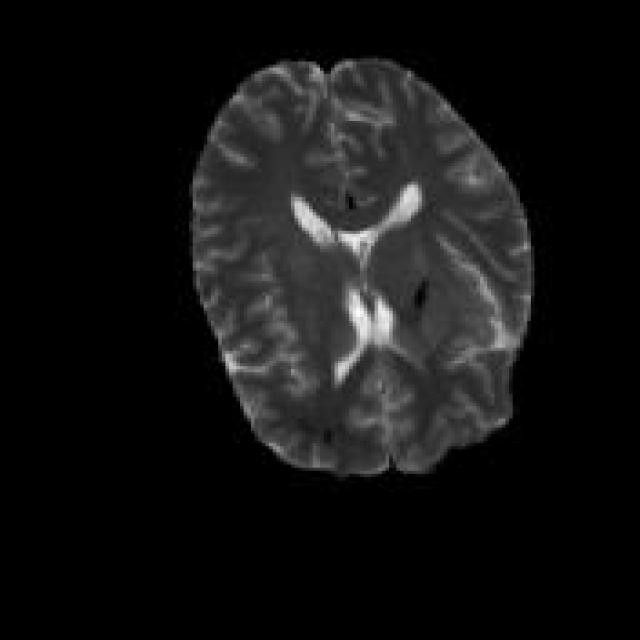parkinson: (186, 52, 534, 477)
